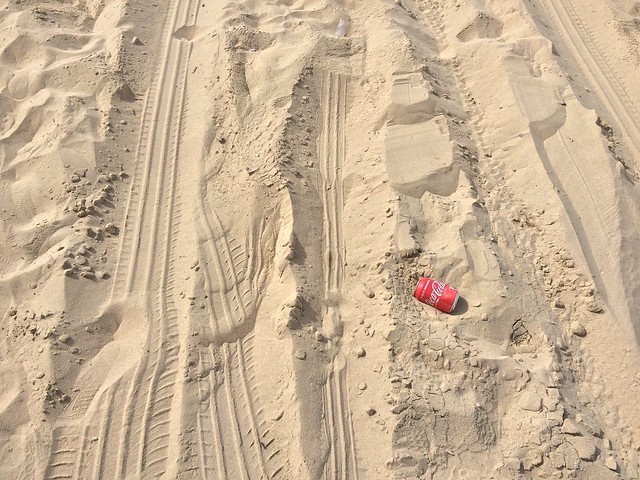can: (409, 269, 469, 320)
